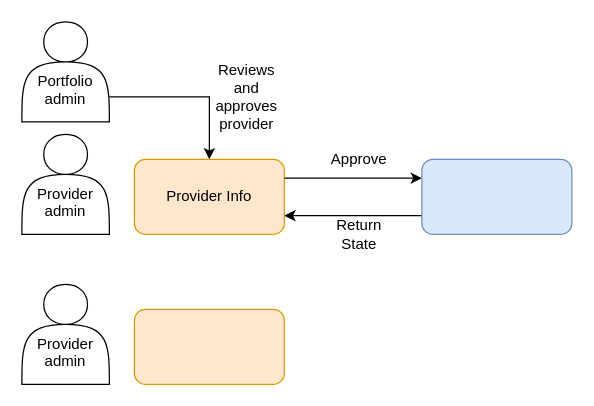
Some shapes in this 594 by 406 pixel diagram are drawn without their labels. Here are the shapes that lost their labels. From the top down, the centre of each, then its label:
At (x=496, y=196): "EOSC Portal".
At (x=208, y=346): "Provider Info status: Pending template submission".
